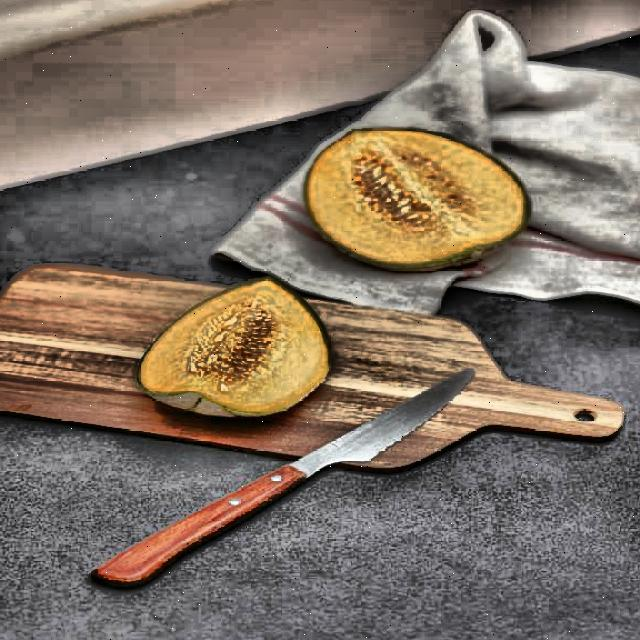knife: (58, 368, 480, 586)
